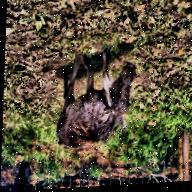boar: (54, 46, 138, 151)
